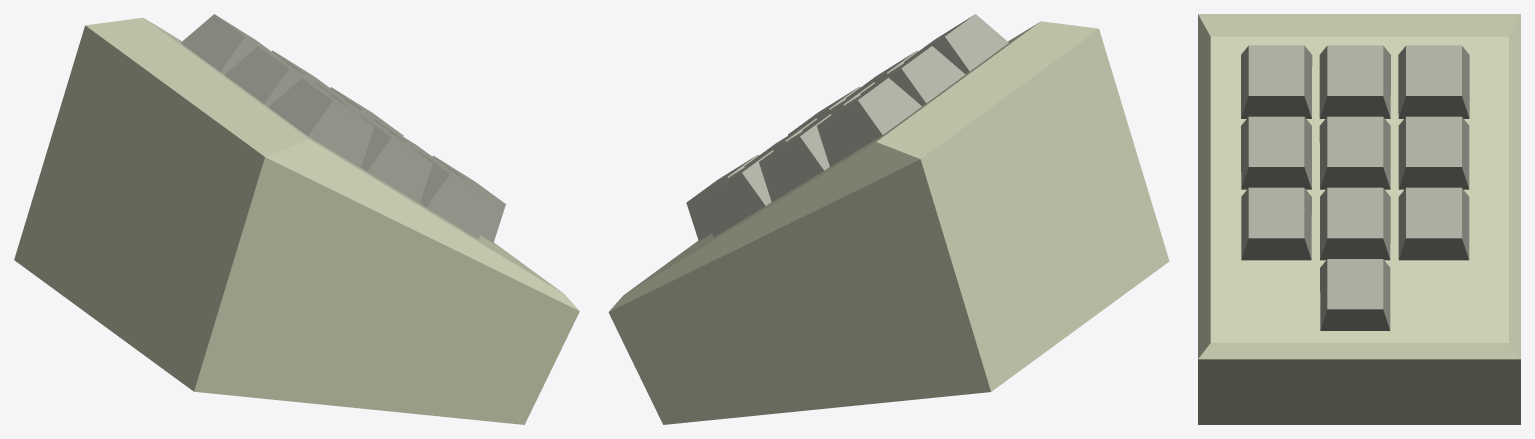
The model's file is NumPad.fbx.
3 views of the same model, side by side, from view 1: azimuth 30°, elevation 25°; view 2: azimuth 150°, elevation 25°; view 3: azimuth 270°, elevation 25° (orthographic). The views are drawn at different scales.
Parts seen in each view (by area): view 1: Terminal.002, Cube.015, Cube.024, Cube.025, Cube.027, Cube.031, Cube.030; view 2: Terminal.002, Cube.031, Cube.032, Cube.033, Cube.027, Cube.015, Cube.030; view 3: Terminal.002, Cube.033, Cube.025, Cube.031, Cube.027, Cube.032, Cube.028, Cube.015, Cube.024, Cube.029, Cube.030.
Part boxes in pixels (x1,y1,x2,y2): Terminal.002: [14, 17, 579, 424]; Cube.015: [268, 78, 374, 168]; Cube.024: [359, 115, 432, 203]; Cube.025: [418, 151, 491, 239]; Cube.027: [224, 46, 330, 106]; Cube.031: [181, 14, 286, 74]; Cube.030: [432, 155, 505, 242]; Terminal.002: [608, 21, 1169, 424]; Cube.031: [817, 77, 921, 166]; Cube.032: [759, 114, 831, 202]; Cube.033: [701, 150, 773, 237]; Cube.027: [860, 46, 965, 105]; Cube.015: [904, 14, 1008, 73]; Cube.030: [686, 154, 758, 240]; Terminal.002: [1198, 14, 1520, 424]; Cube.033: [1398, 187, 1469, 260]; Cube.025: [1241, 187, 1311, 260]; Cube.031: [1398, 45, 1469, 118]; Cube.027: [1319, 45, 1390, 118]; Cube.032: [1398, 116, 1469, 189]; Cube.028: [1319, 116, 1390, 189]; Cube.015: [1241, 45, 1312, 118]; Cube.024: [1241, 116, 1311, 189]; Cube.029: [1320, 187, 1390, 260]; Cube.030: [1320, 259, 1390, 330].
Bounding box in the file's own units: 19.75 × 24.46 × 20.79.
